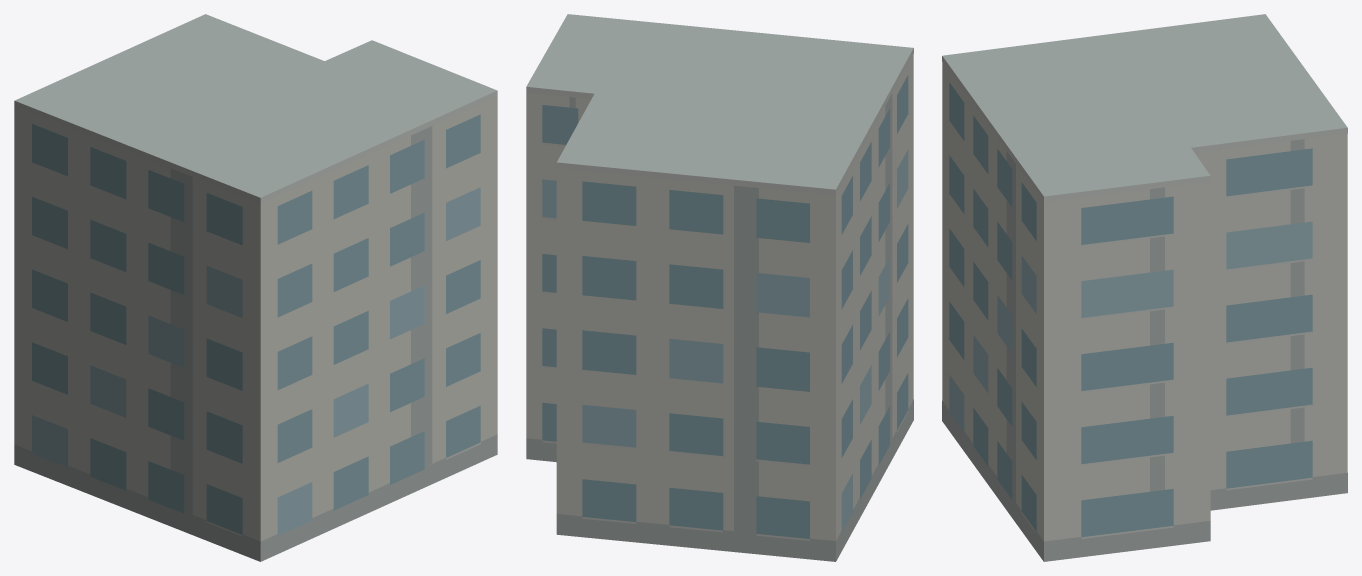
Rendered from survey-upis-32984444.glb.
The picture shows the model from 3 angles, left to right: view 1: azimuth 30°, elevation 25°; view 2: azimuth 150°, elevation 25°; view 3: azimuth 270°, elevation 25°; orthographic projection. The views are drawn at different scales.
Parts seen in each view (by area): view 1: survey-upis-32984444.tmp; view 2: survey-upis-32984444.tmp; view 3: survey-upis-32984444.tmp.
Part boxes in pixels (x1,y1,x2,y2): survey-upis-32984444.tmp: [14, 14, 497, 561]; survey-upis-32984444.tmp: [526, 14, 913, 561]; survey-upis-32984444.tmp: [942, 14, 1347, 561].
Size of the model in its own units: 16.35 by 15.25 by 15.36.
